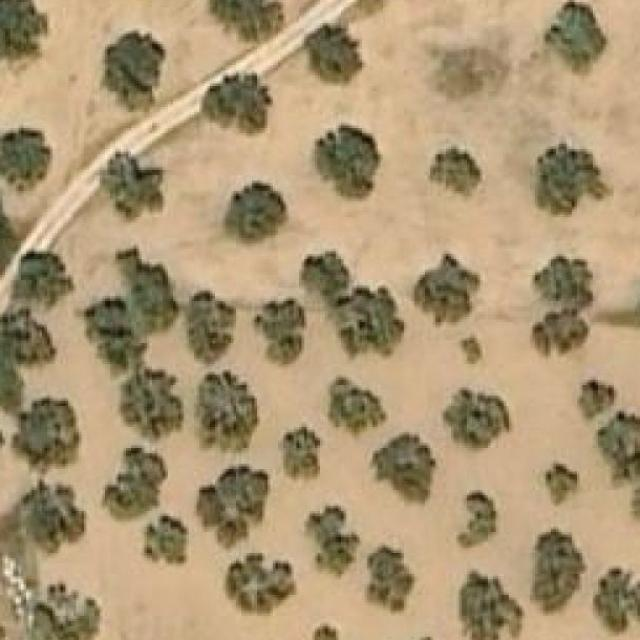Tree: (302, 252, 407, 360), (192, 467, 271, 551), (532, 254, 593, 357), (114, 246, 180, 339), (407, 252, 484, 330), (526, 527, 588, 616), (535, 144, 612, 215), (194, 369, 260, 451), (103, 28, 166, 112), (544, 0, 610, 79), (103, 446, 169, 524), (318, 123, 381, 199), (459, 568, 525, 640), (441, 388, 512, 454), (119, 366, 184, 438), (598, 412, 640, 520), (225, 553, 297, 616), (371, 436, 436, 504), (204, 70, 270, 134), (100, 152, 162, 218), (84, 296, 139, 369), (14, 484, 76, 548), (224, 180, 286, 243), (184, 291, 236, 364), (307, 506, 360, 577), (14, 401, 71, 467), (308, 23, 365, 86), (589, 565, 640, 635), (367, 546, 418, 614), (210, 0, 288, 44), (254, 299, 304, 365), (11, 252, 68, 309), (34, 589, 97, 640), (328, 378, 386, 433), (0, 128, 50, 185), (138, 514, 189, 567), (456, 490, 498, 551), (430, 147, 483, 194), (281, 425, 323, 483), (0, 314, 47, 364), (0, 0, 37, 58), (580, 380, 615, 420), (546, 464, 580, 504), (462, 333, 482, 367), (309, 623, 338, 640), (0, 406, 5, 480)
